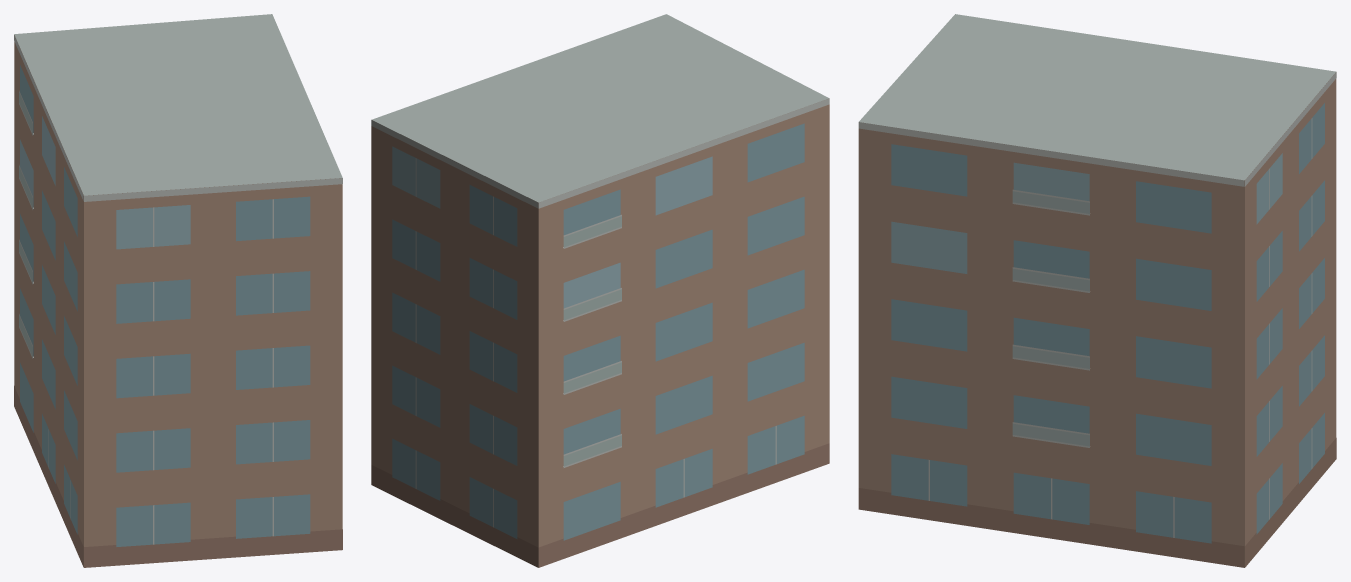
Rendered from survey-upis-32950956.glb.
3 renders of one model, left to right at view 1: azimuth 30°, elevation 25°; view 2: azimuth 150°, elevation 25°; view 3: azimuth 270°, elevation 25°, orthographic. The views are drawn at different scales.
Visible parts, largest first — view 1: survey-upis-32950956.tmp; view 2: survey-upis-32950956.tmp; view 3: survey-upis-32950956.tmp.
Part boxes in pixels (<box>): survey-upis-32950956.tmp: <box>14,14,342,567</box>; survey-upis-32950956.tmp: <box>371,14,829,567</box>; survey-upis-32950956.tmp: <box>858,14,1336,567</box>.
Size of the model in its own units: 13.37 by 14.5 by 16.22.
